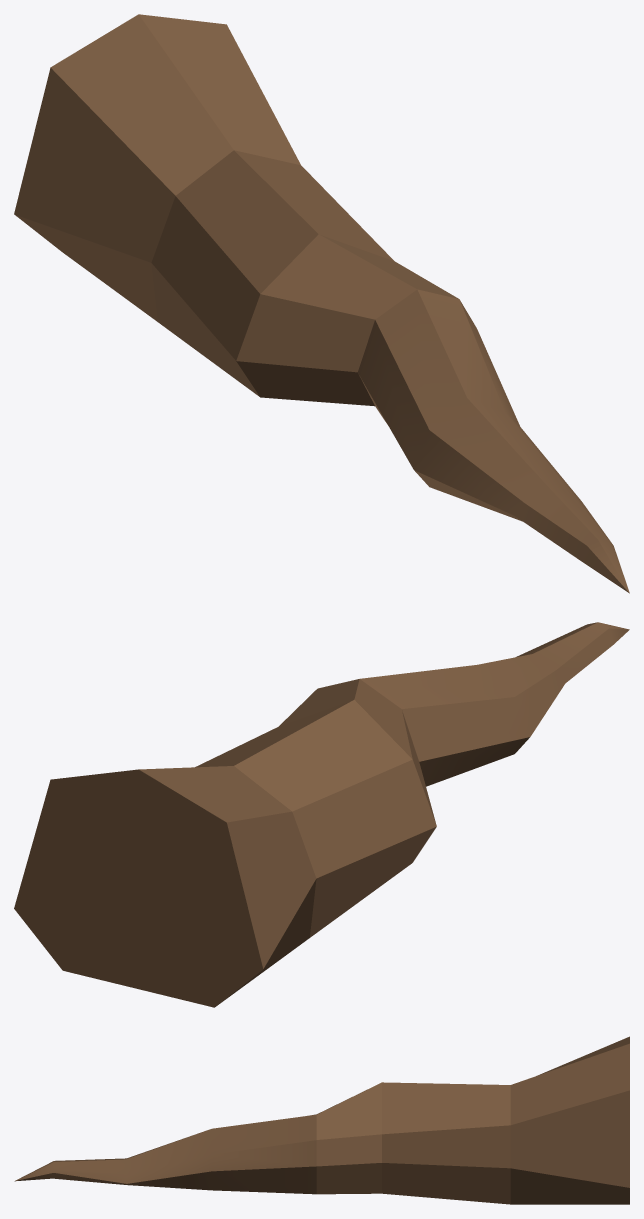
File: Tree_Root.fbx
The picture shows the model from 3 angles, top to bottom: view 1: azimuth 30°, elevation 25°; view 2: azimuth 150°, elevation 25°; view 3: azimuth 270°, elevation 25°; orthographic projection. The views are drawn at different scales.
Visible parts, largest first — view 1: Roots; view 2: Roots; view 3: Roots.
Part boxes in pixels (x1,y1,x2,y2): Roots: (14, 14, 629, 593); Roots: (14, 622, 629, 1007); Roots: (14, 1036, 629, 1204).
Bounding box in the file's own units: 168 × 141 × 573.
